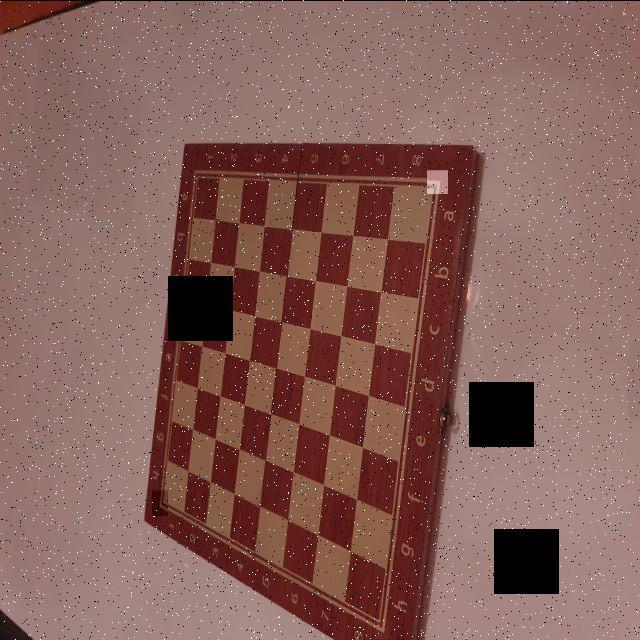chess-table-corners: (427, 168, 448, 192), (152, 488, 168, 514), (376, 618, 389, 638), (190, 163, 202, 179)
